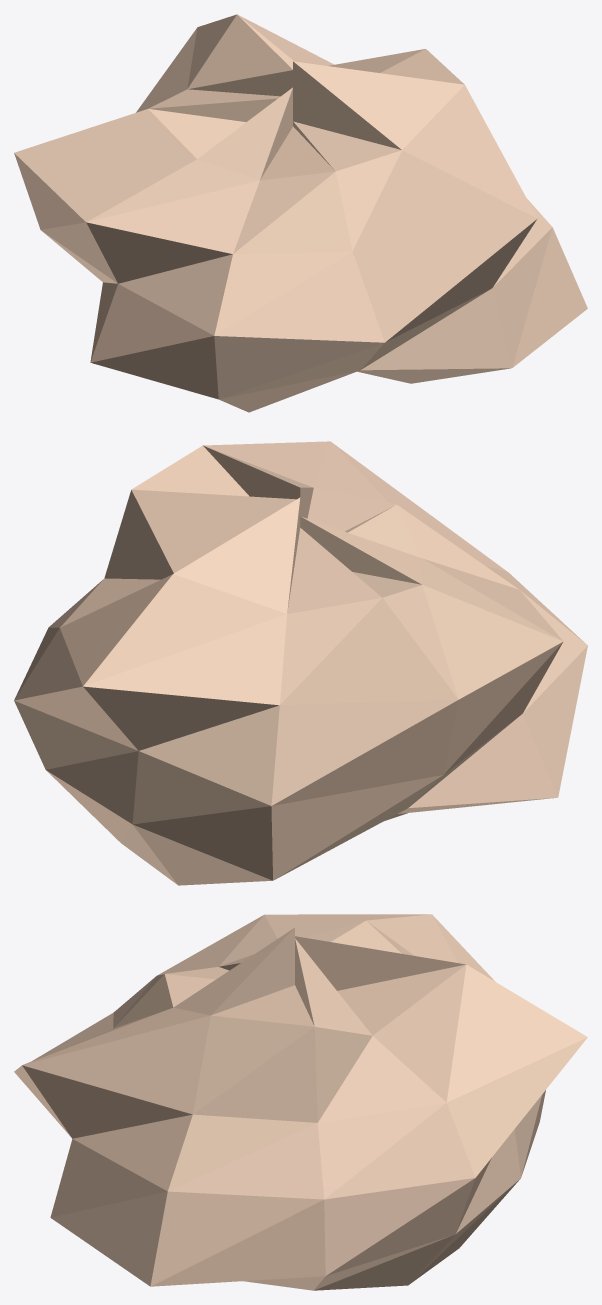
File: rock_025.obj
3 views of the same model, one above another, from view 1: azimuth 30°, elevation 25°; view 2: azimuth 150°, elevation 25°; view 3: azimuth 270°, elevation 25° (orthographic). The views are drawn at different scales.
Bounding box in the file's own units: 1.21 × 0.8446 × 1.34.
